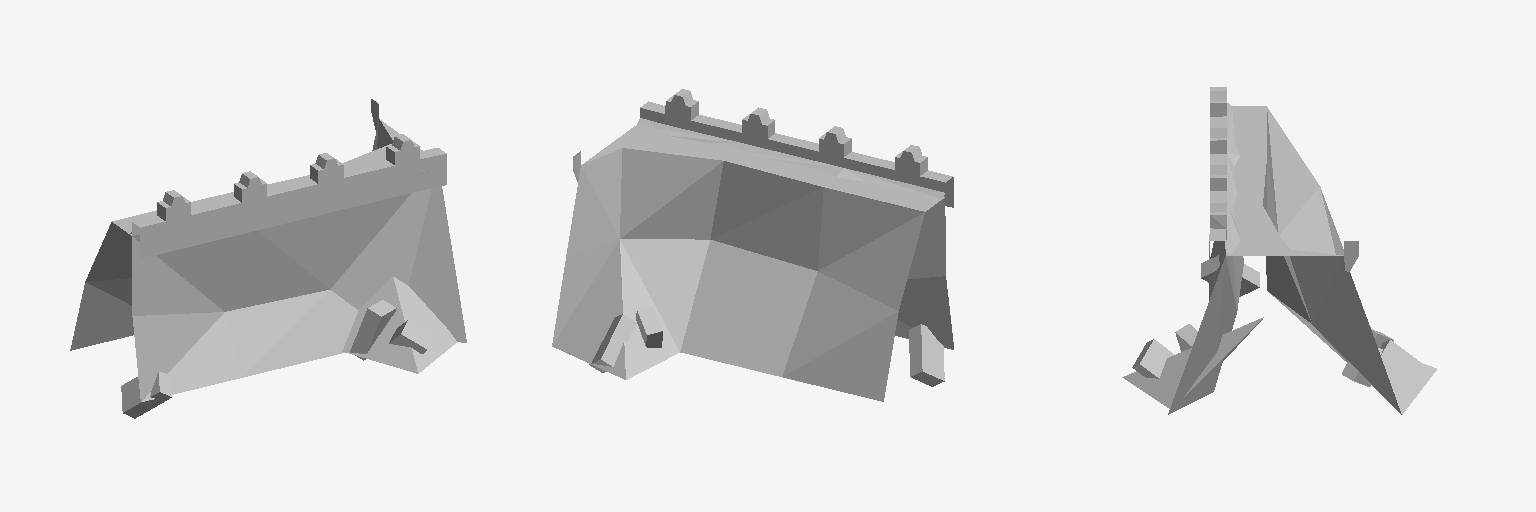
Rendered from templeStraightNarrowLongUpAHorz_prefab.obj.
The picture shows the model from 3 angles: view 1: azimuth 30°, elevation 25°; view 2: azimuth 150°, elevation 25°; view 3: azimuth 270°, elevation 25°; orthographic projection.
Parts seen in each view (by area): view 1: Object58-Pivot; view 2: Object58-Pivot; view 3: Object58-Pivot.
Part boxes in pixels (x1,y1,x2,y2): Object58-Pivot: (70, 99, 466, 418); Object58-Pivot: (552, 89, 953, 401); Object58-Pivot: (1122, 87, 1436, 414).
Size of the model in its own units: 60.93 by 42.12 by 53.73.